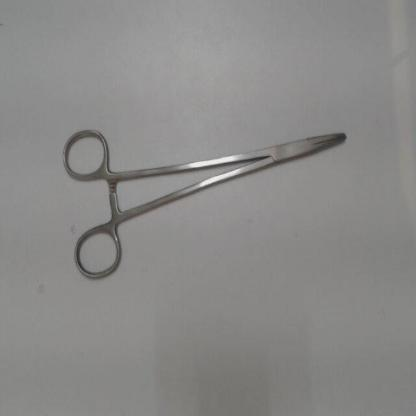8 Mayo Needle Holder: (54, 118, 359, 289)
